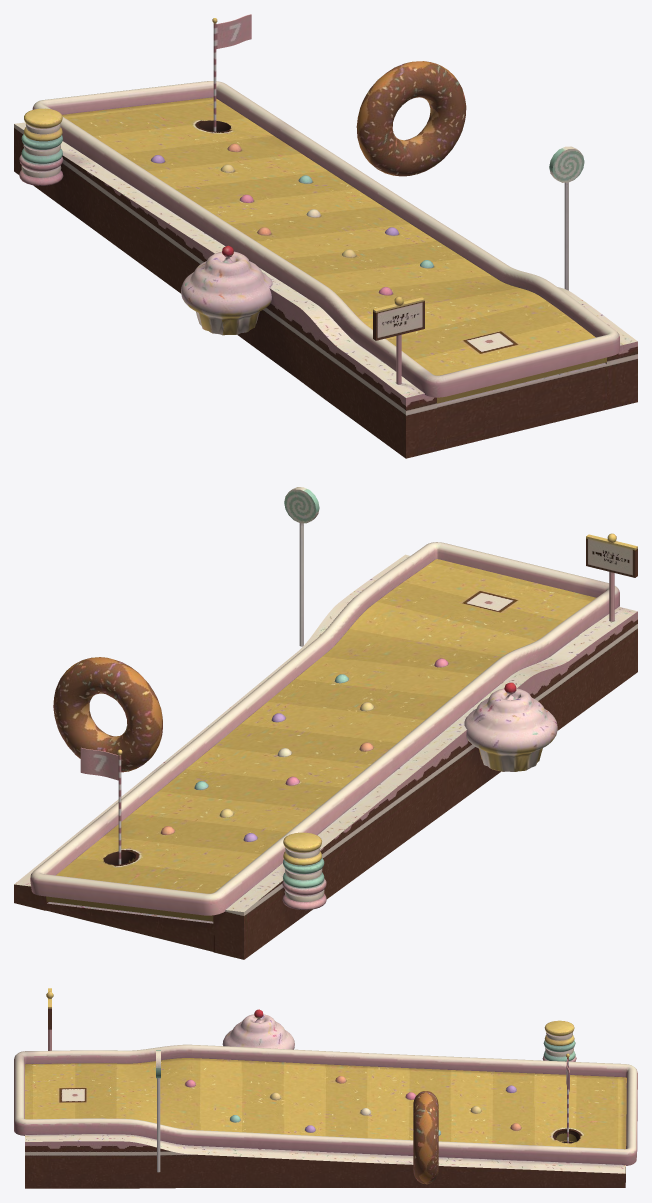
File: hole07.glb
The picture shows the model from 3 angles, top to bottom: view 1: azimuth 30°, elevation 25°; view 2: azimuth 150°, elevation 25°; view 3: azimuth 270°, elevation 25°; orthographic projection. The views are drawn at different scales.
Visible parts, largest first — view 1: Green, Base, Rails, Decor2, Decor1, Decor4, HoleSign, Decor3, Flag, CandyDots; view 2: Green, Base, Rails, Decor2, Decor1, Decor4, HoleSign, Decor3, Flag, CandyDots; view 3: Green, Base, Rails, Decor2, Decor1, Decor4, CandyDots, Decor3.
Boxes of the visible parts, box(x1,y1,x2,y2) form: Green: box(62, 97, 606, 403); Base: box(14, 122, 637, 458); Rails: box(32, 81, 619, 397); Decor2: box(356, 61, 466, 176); Decor1: box(181, 245, 272, 335); Decor4: box(19, 108, 63, 185); HoleSign: box(373, 296, 424, 384); Decor3: box(549, 146, 584, 290); Flag: box(212, 14, 251, 131); CandyDots: box(151, 143, 433, 295); Green: box(46, 559, 596, 921); Base: box(14, 554, 637, 959); Rails: box(30, 542, 619, 915); Decor2: box(53, 657, 162, 772); Decor1: box(464, 682, 557, 771); Decor4: box(282, 832, 326, 910); HoleSign: box(586, 533, 637, 621); Decor3: box(284, 487, 319, 646); Flag: box(80, 747, 122, 864); CandyDots: box(161, 658, 448, 841); Green: box(25, 1058, 626, 1149); Base: box(25, 1134, 625, 1188); Rails: box(14, 1044, 637, 1165); Decor2: box(413, 1091, 438, 1184); Decor1: box(222, 1009, 294, 1049); Decor4: box(542, 1020, 576, 1061); CandyDots: box(185, 1076, 521, 1135); Decor3: box(156, 1050, 160, 1172).
Size of what is drawn, in the model's own units: 4.09 by 1.89 by 7.47.
1 material, 1 textured.
